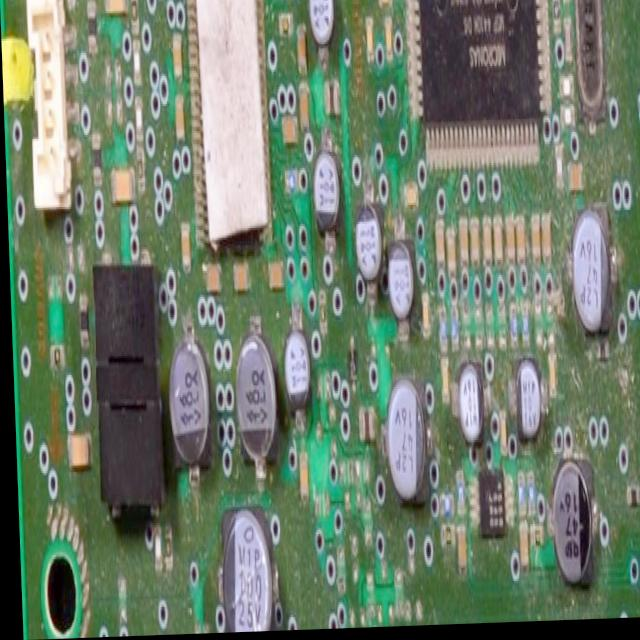IC: (402, 0, 557, 191)
capacitor: (231, 326, 278, 474), (569, 202, 615, 341), (378, 369, 428, 492), (220, 516, 270, 634), (167, 352, 210, 481), (545, 462, 588, 591), (280, 327, 326, 438), (309, 156, 343, 245), (350, 211, 382, 300), (388, 234, 417, 325), (455, 368, 481, 453), (512, 373, 541, 438), (307, 0, 334, 60)
